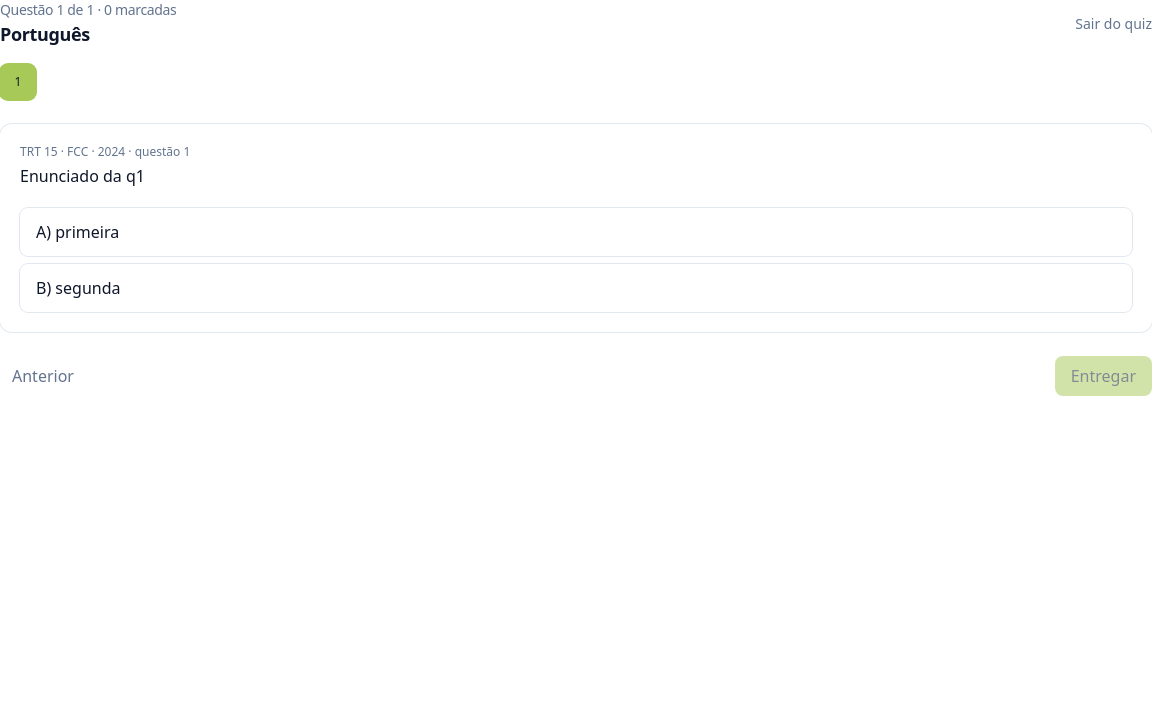
Scenario: QuizExecucaoComponent › entrega que falha não deixa nada gravado — dá para tentar de novo
Click the button "A) primeira". click: (85, 232)
box: [20, 208, 1132, 256]
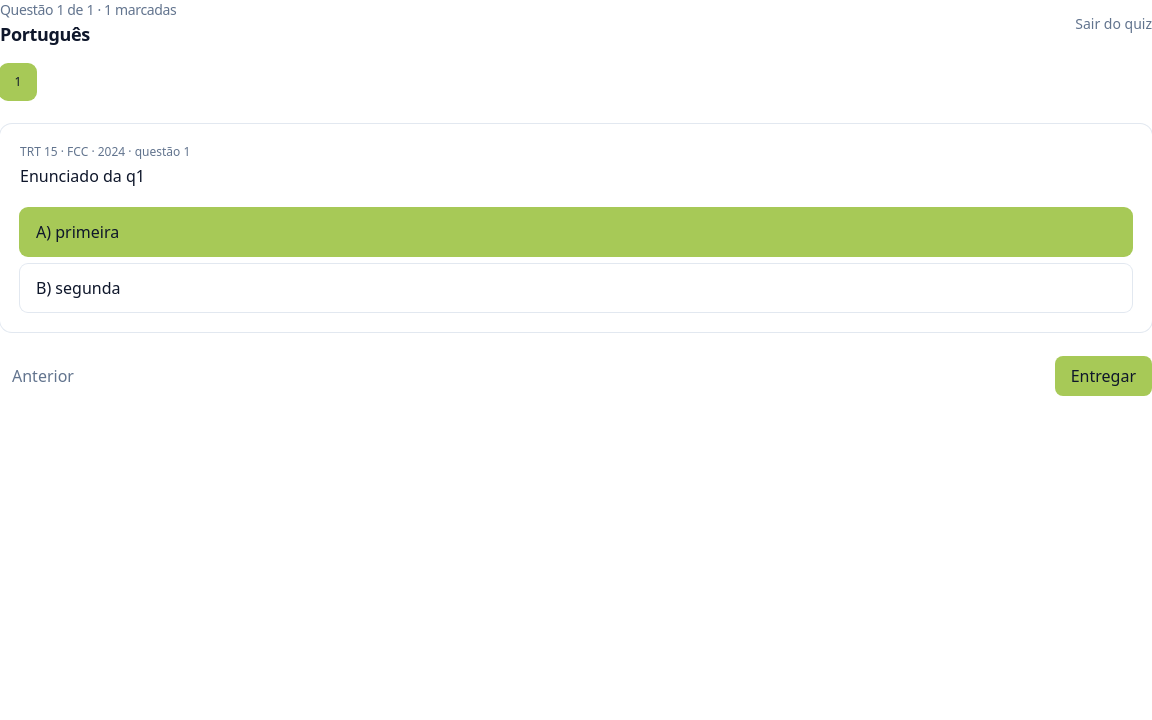
Click the button "Entregar". click: (1103, 376)
box: [1055, 356, 1151, 396]
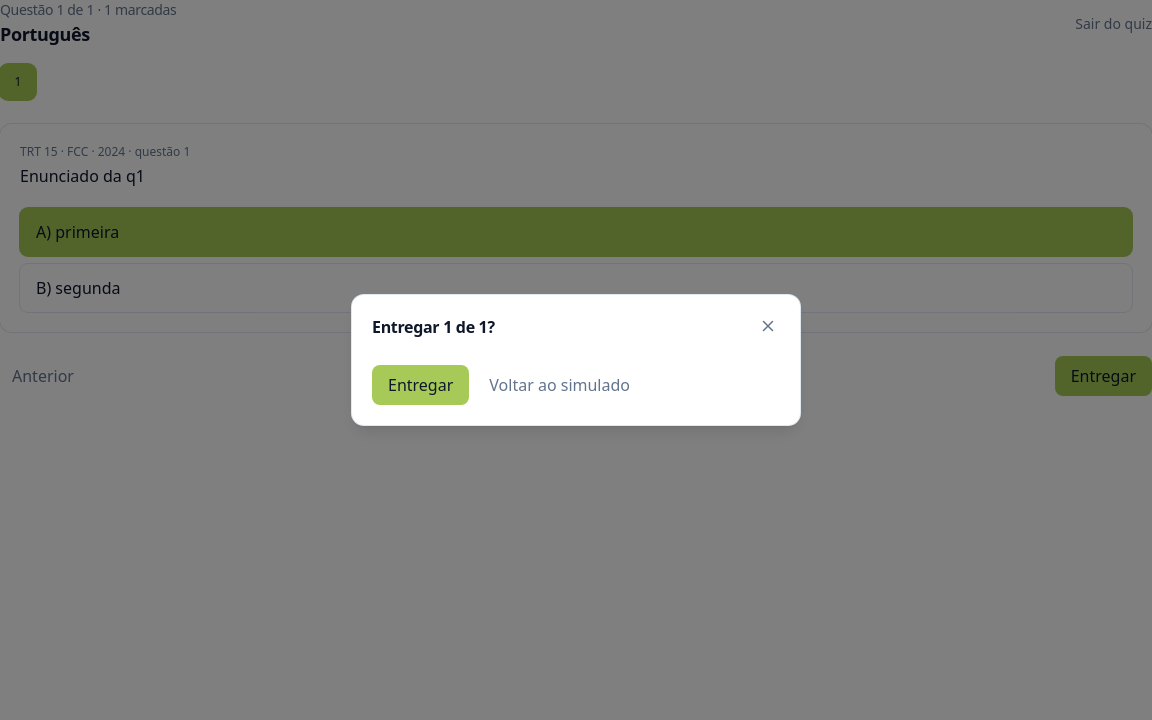
Click the button "Entregar". click: (421, 385)
box: [372, 365, 469, 405]
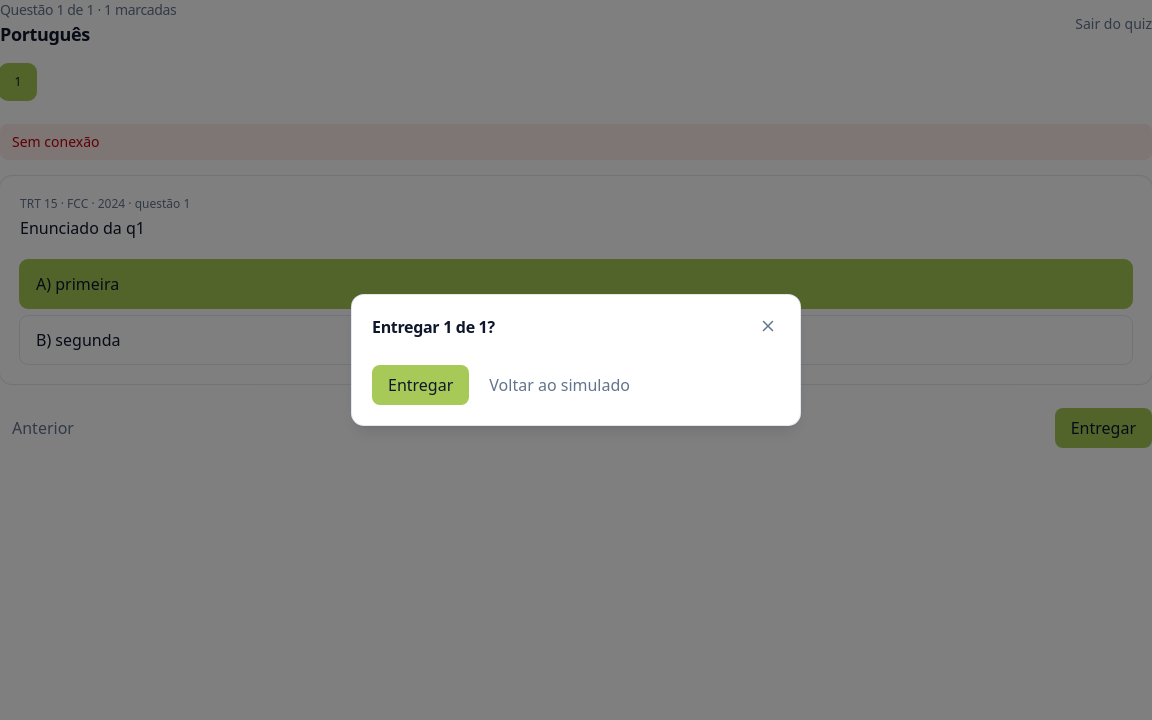
Check: the text "Sem conexão" is shown, box [0, 124, 1151, 160]
